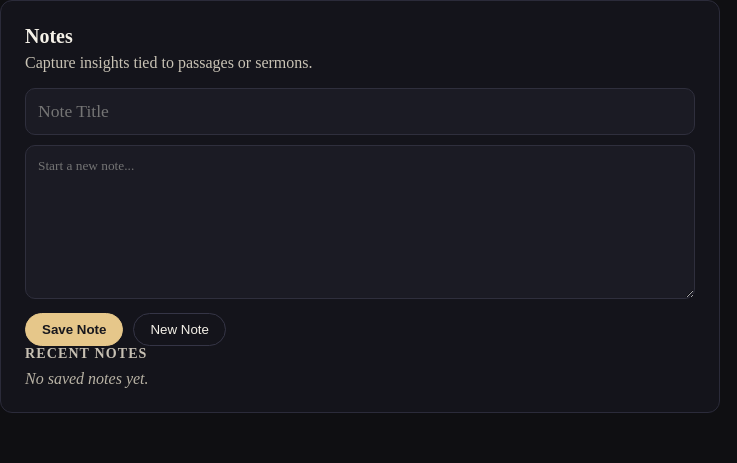
it: NoteEditor › allows creating and saving a new note
This screenshot has width=737, height=463.
In the field with placeholder "Note Title": [360, 112] box [25,88,695,135], type "My New Note"
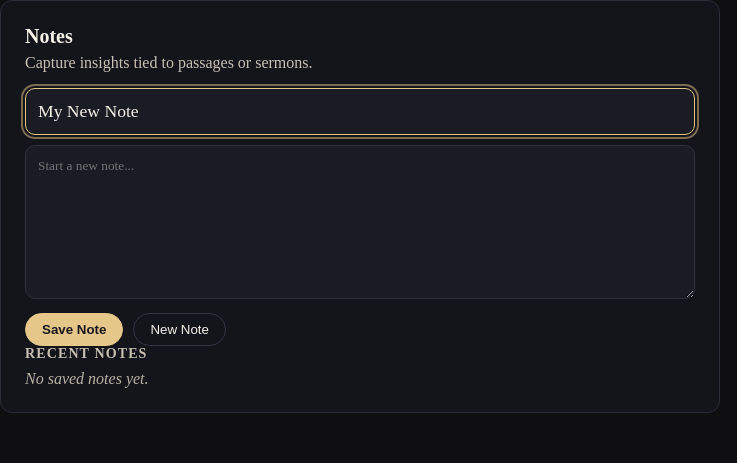
In the text box with placeholder "Start a new note...": [360, 222] box [25,145,695,299], type "This is the content."
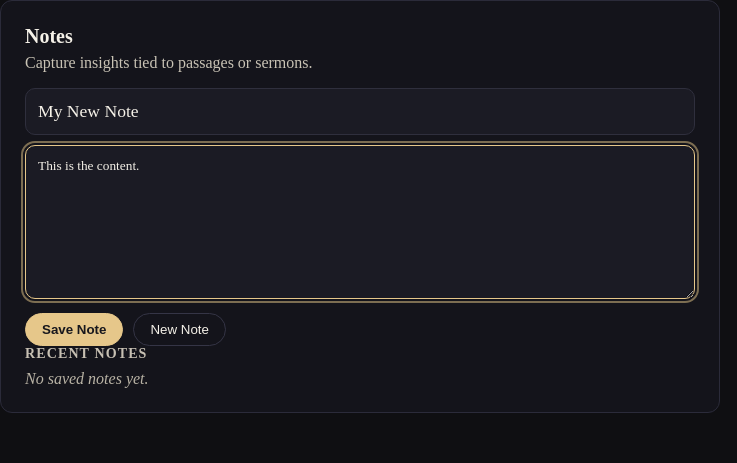
Click the button "Save Note": [74, 330] box [25,313,124,346]
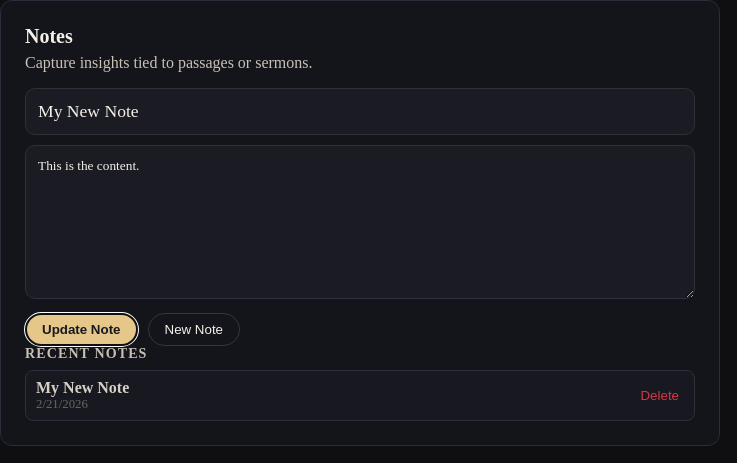
Check: the text "My New Note" is shown, box [36,379,129,397]
Check: the text "No saved notes yet." is gone
